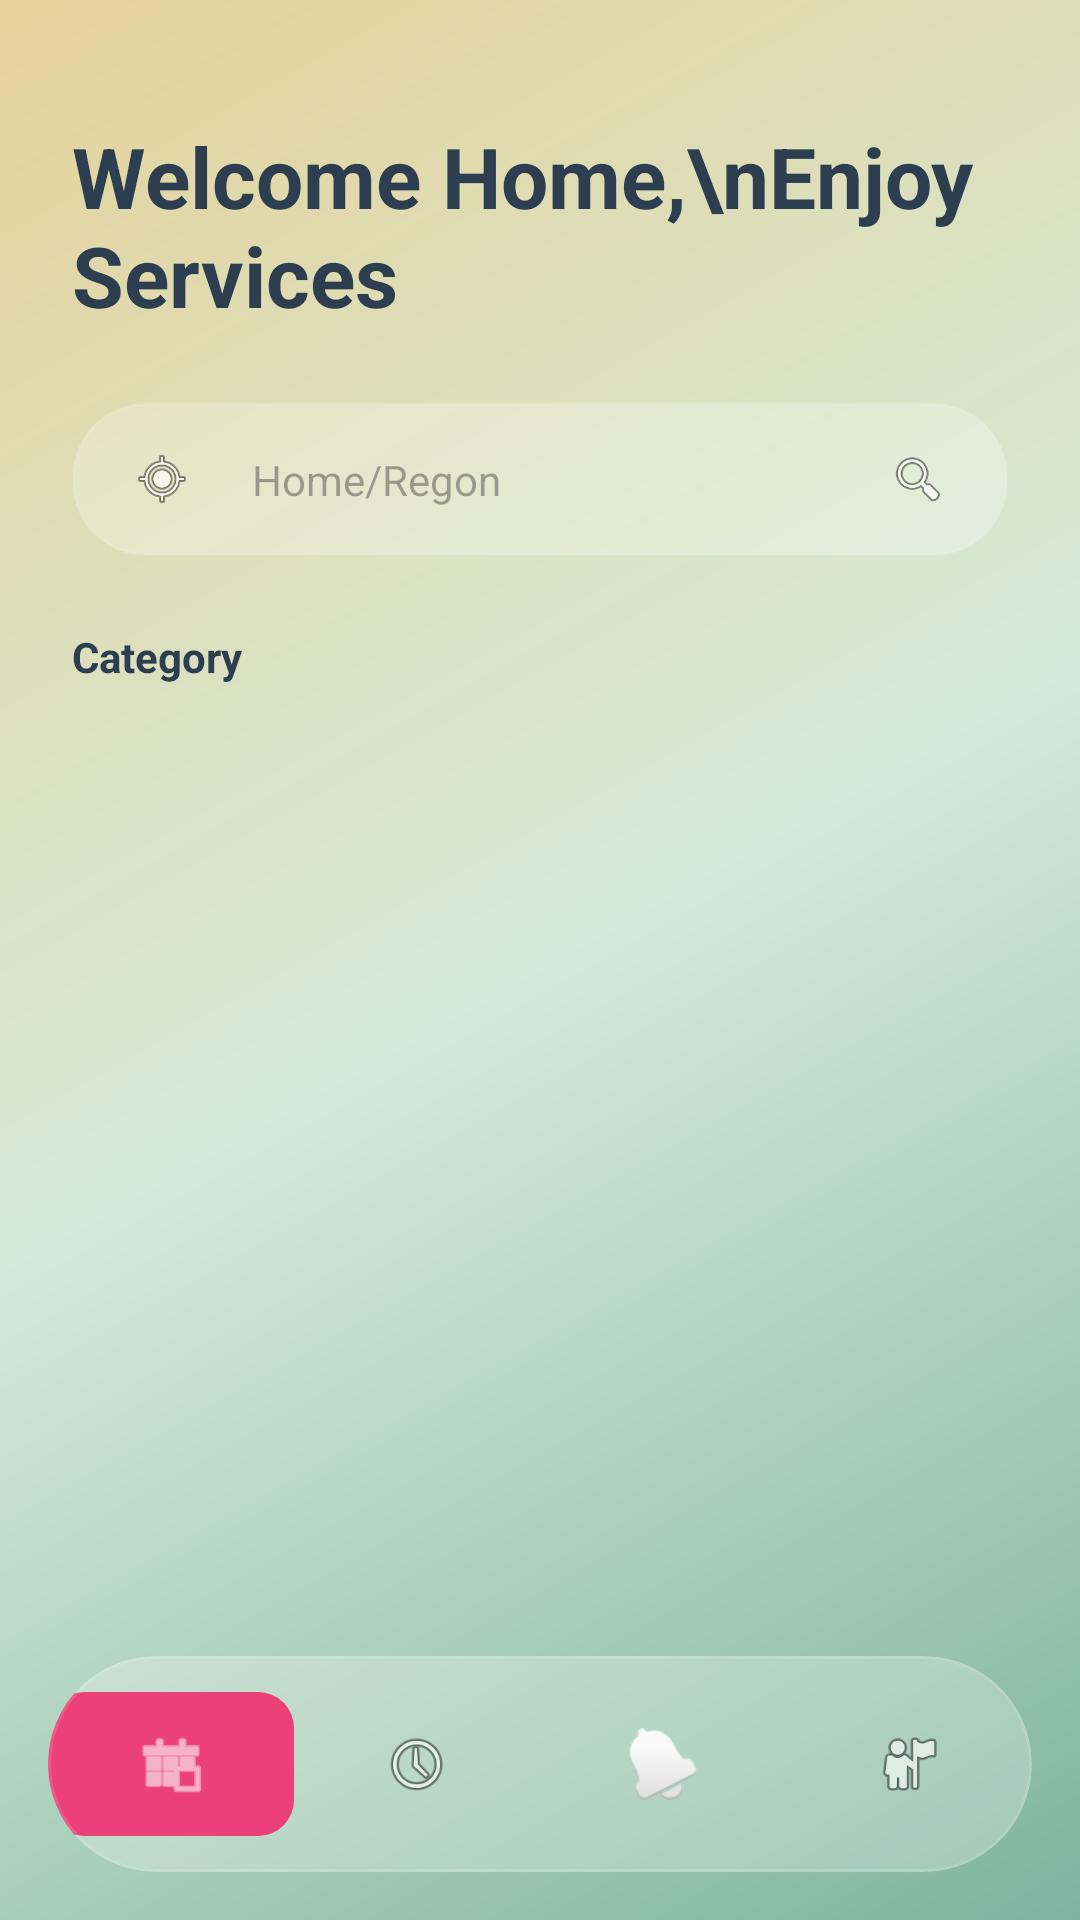

Locate icon controls on the screen. Image size 1080 × 1920, boxes as (x1, y1, x2, y2).
mylocation: (138, 455, 186, 503)
myplaces: (883, 1737, 937, 1791)
popup reminder: (630, 1728, 696, 1800)
recent history: (390, 1738, 443, 1790)
search: (896, 457, 940, 502)
today: (48, 1692, 294, 1836)
